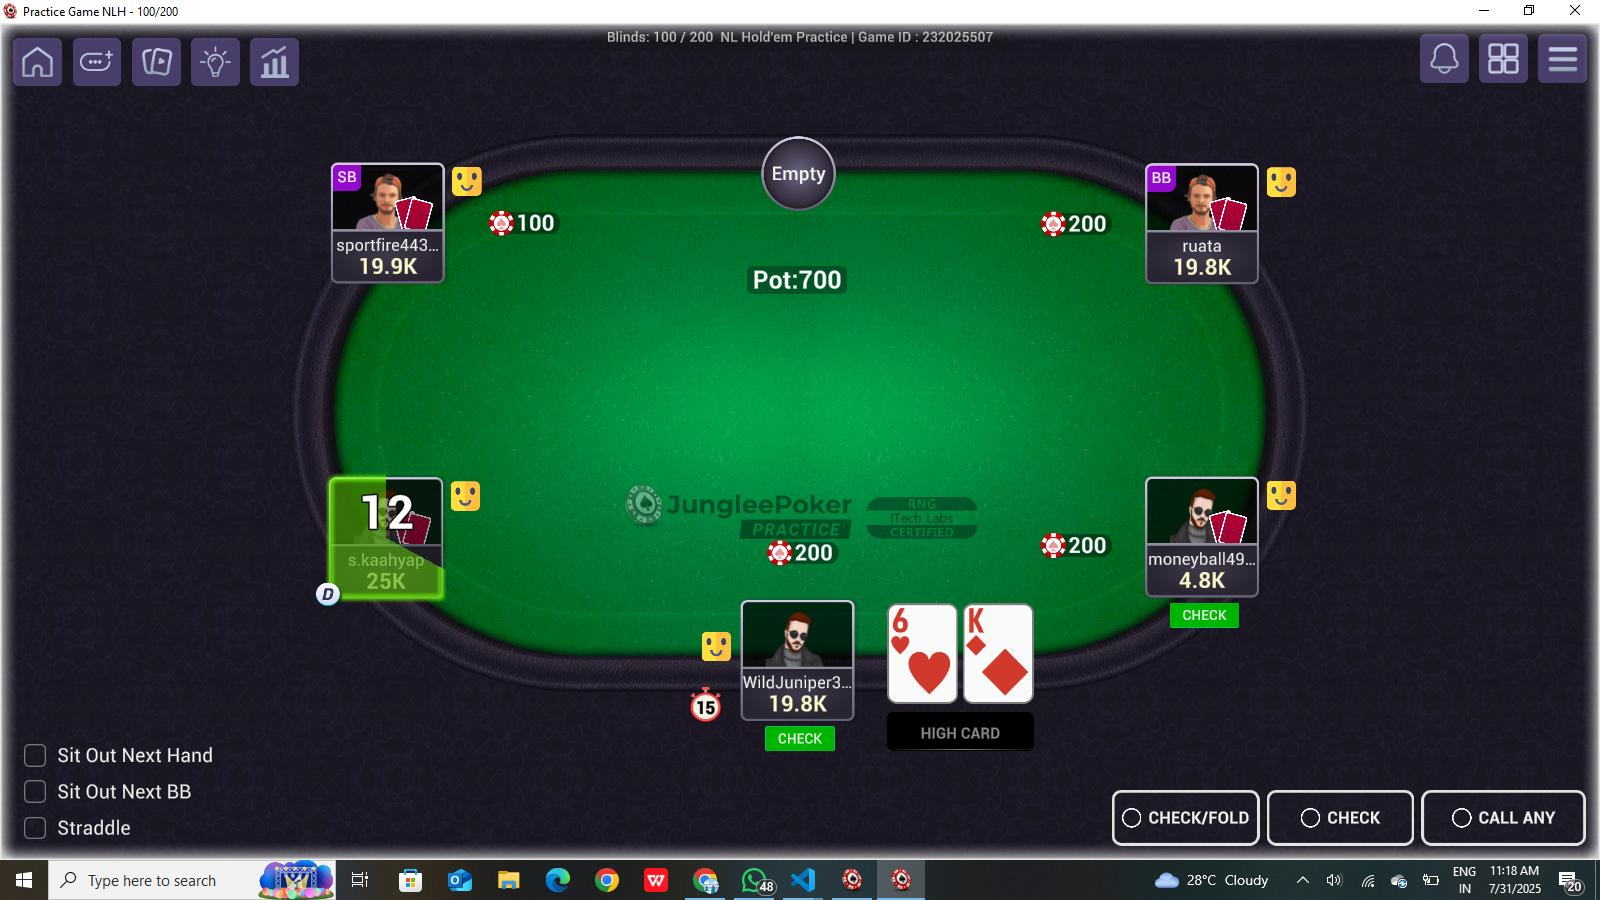card1_rank: (887, 605, 936, 636)
card1_suite_heart: (903, 643, 957, 702)
card2_rank: (965, 605, 1015, 636)
card2_suite_diamond: (975, 640, 1032, 702)
game_id: (854, 23, 1023, 57)
my_bet: (762, 533, 840, 570)
my_stack: (746, 690, 854, 716)
total_pot: (748, 265, 852, 298)
villian1_name: (325, 542, 443, 568)
villian1_stack: (346, 570, 426, 597)
villian2_bet: (487, 210, 562, 238)
villian2_name: (333, 235, 445, 254)
villian2_stack: (338, 252, 438, 280)
villian4_bet: (1036, 209, 1115, 235)
villian4_name: (1145, 230, 1262, 254)
villian4_stack: (1162, 255, 1240, 281)
villian5_bet: (1038, 526, 1113, 564)
villian5_name: (1145, 546, 1254, 568)
villian5_stack: (1167, 567, 1236, 593)
